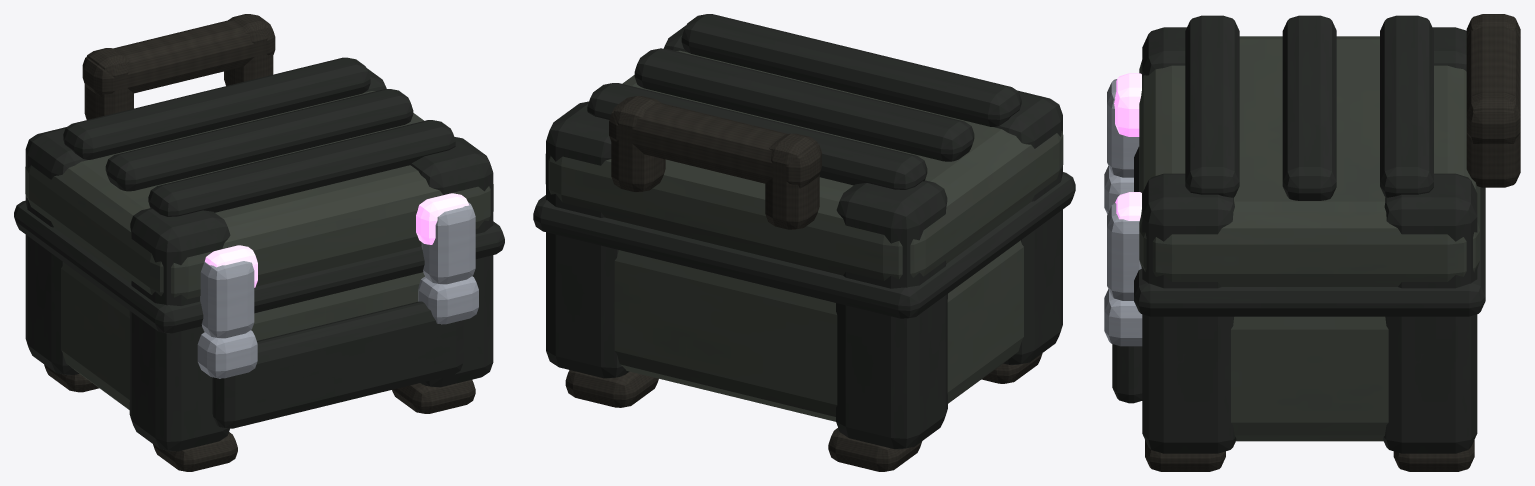
File: pickup_grenade_case.glb
3 views of the same model, side by side, from view 1: azimuth 30°, elevation 25°; view 2: azimuth 150°, elevation 25°; view 3: azimuth 270°, elevation 25° (orthographic). The views are drawn at different scales.
Parts seen in each view (by area): view 1: pickup_grenade_case_lid, pickup_grenade_case_label_plate, pickup_grenade_case_corner_lf, pickup_grenade_case_lid_rib1, pickup_grenade_case_lid_rib2, pickup_grenade_case_lid_rib0, pickup_grenade_case_body, pickup_grenade_case_seam, pickup_grenade_case_handle_bar, pickup_grenade_case_corner_rf, pickup_grenade_case_corner_lb, pickup_grenade_case_latch_l (+10 smaller); view 2: pickup_grenade_case_body, pickup_grenade_case_lid, pickup_grenade_case_corner_lb, pickup_grenade_case_seam, pickup_grenade_case_lid_rib1, pickup_grenade_case_lid_rib0, pickup_grenade_case_corner_rb, pickup_grenade_case_handle_bar, pickup_grenade_case_corner_lf, pickup_grenade_case_lid_rib2, pickup_grenade_case_handle_post_l, pickup_grenade_case_handle_post_r (+3 smaller); view 3: pickup_grenade_case_lid, pickup_grenade_case_body, pickup_grenade_case_corner_rb, pickup_grenade_case_corner_rf, pickup_grenade_case_seam, pickup_grenade_case_lid_rib1, pickup_grenade_case_lid_rib0, pickup_grenade_case_lid_rib2, pickup_grenade_case_handle_bar, pickup_grenade_case_handle_post_r, pickup_grenade_case_latch_r, pickup_grenade_case_corner_lf (+10 smaller).
Part boxes in pixels (box(x1,y1,x2,y2)): pickup_grenade_case_lid: box(25, 91, 493, 299); pickup_grenade_case_label_plate: box(212, 301, 463, 428); pickup_grenade_case_corner_lf: box(129, 208, 230, 451); pickup_grenade_case_lid_rib1: box(105, 89, 413, 191); pickup_grenade_case_lid_rib2: box(63, 57, 370, 159); pickup_grenade_case_lid_rib0: box(148, 120, 455, 216); pickup_grenade_case_body: box(61, 262, 424, 409); pickup_grenade_case_seam: box(14, 200, 504, 333); pickup_grenade_case_handle_bar: box(82, 20, 275, 97); pickup_grenade_case_corner_rf: box(410, 137, 493, 387); pickup_grenade_case_corner_lb: box(25, 127, 87, 375); pickup_grenade_case_latch_l: box(200, 261, 254, 338); pickup_grenade_case_body: box(614, 240, 1023, 421); pickup_grenade_case_lid: box(545, 50, 1063, 280); pickup_grenade_case_corner_lb: box(836, 180, 947, 449); pickup_grenade_case_seam: box(533, 172, 1075, 318); pickup_grenade_case_lid_rib1: box(634, 48, 974, 161); pickup_grenade_case_lid_rib0: box(681, 14, 1021, 126); pickup_grenade_case_corner_rb: box(546, 101, 629, 378); pickup_grenade_case_handle_bar: box(609, 103, 821, 188); pickup_grenade_case_corner_lf: box(994, 90, 1062, 364); pickup_grenade_case_lid_rib2: box(587, 83, 927, 189); pickup_grenade_case_handle_post_l: box(765, 133, 819, 229); pickup_grenade_case_handle_post_r: box(611, 96, 665, 192); pickup_grenade_case_lid: box(1139, 36, 1479, 286); pickup_grenade_case_body: box(1231, 316, 1388, 441); pickup_grenade_case_corner_rb: box(1383, 173, 1477, 453); pickup_grenade_case_corner_rf: box(1142, 173, 1236, 453); pickup_grenade_case_seam: box(1134, 147, 1485, 316); pickup_grenade_case_lid_rib1: box(1282, 15, 1336, 200); pickup_grenade_case_lid_rib0: box(1185, 15, 1239, 197); pickup_grenade_case_lid_rib2: box(1380, 15, 1433, 197); pickup_grenade_case_handle_bar: box(1466, 26, 1520, 143); pickup_grenade_case_handle_post_r: box(1466, 92, 1520, 187); pickup_grenade_case_latch_r: box(1107, 203, 1141, 300); pickup_grenade_case_corner_lf: box(1142, 27, 1186, 77).
Bounding box in the file's own units: 0.425 × 0.345 × 0.385.
Materials: 5 (4 with a texture image).
